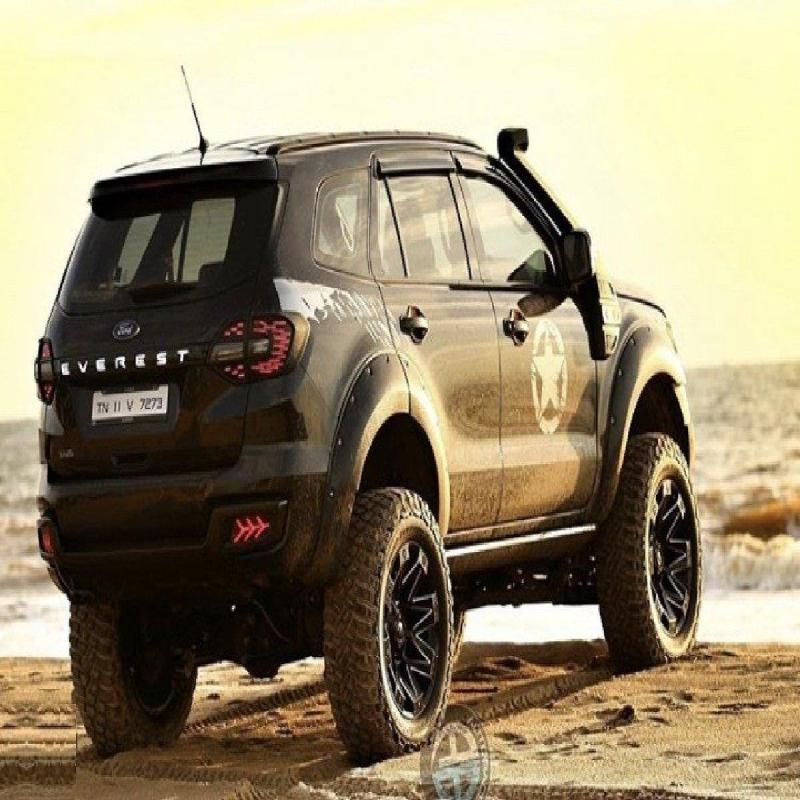car: (12, 140, 746, 751)
